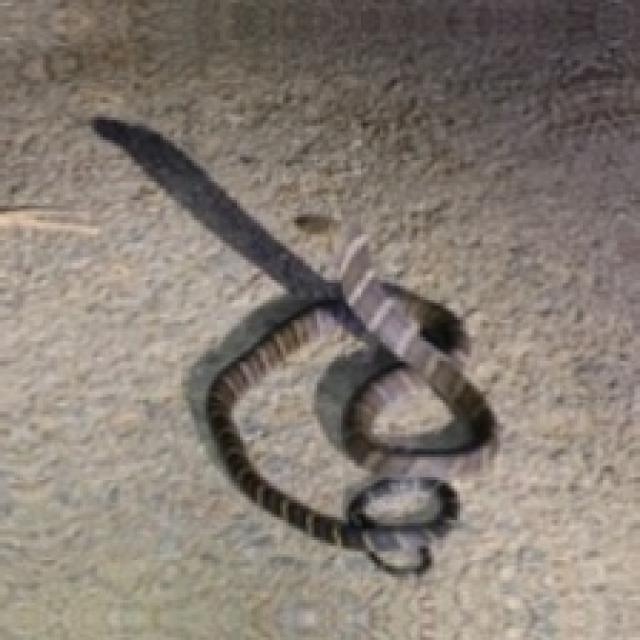king cobra: (91, 117, 491, 571), (229, 326, 383, 520)
